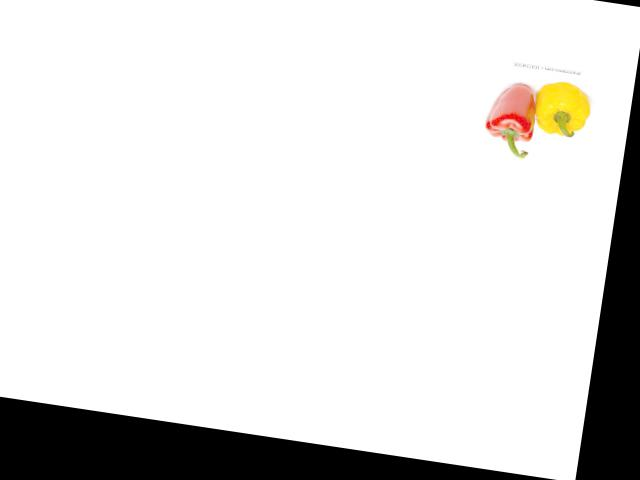bell_pepper: (528, 73, 597, 144)
